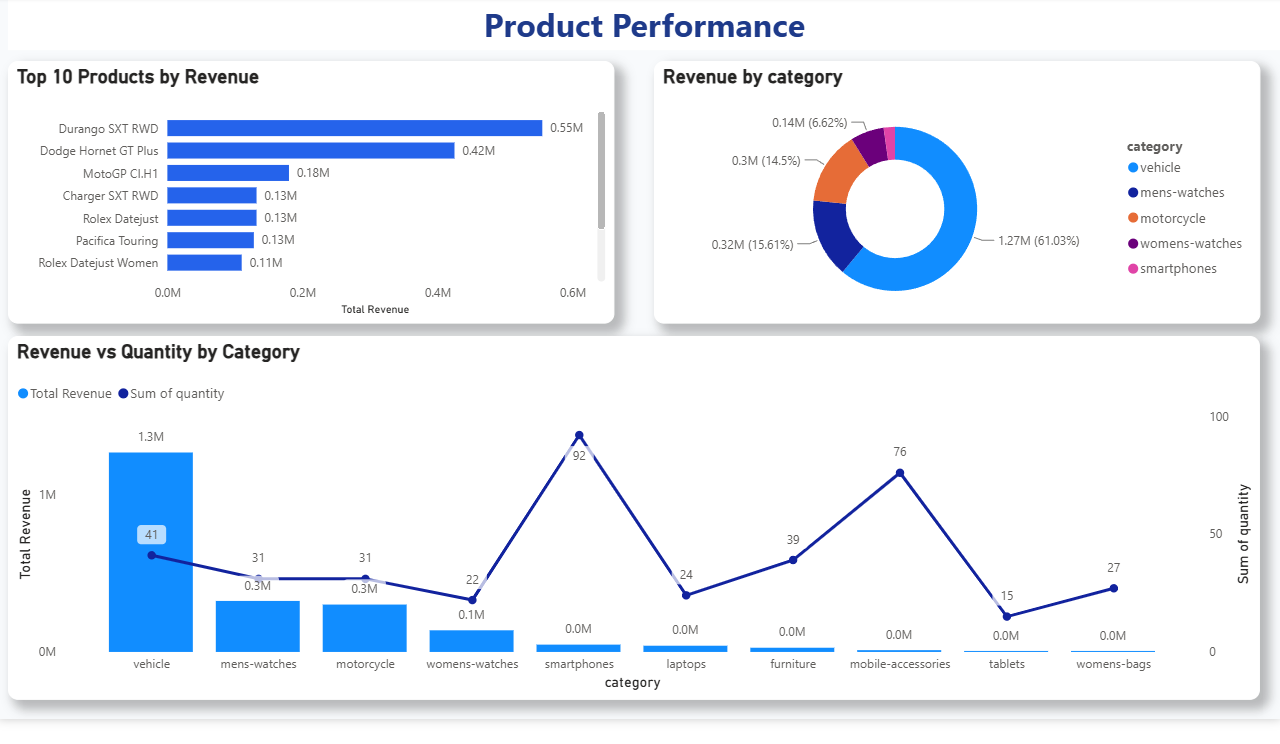

The page's visual inventory and layout, read from the dashboard file:
{"tool":"powerbi","page":{"name":"Product Performance","canvas":[1280,720],"ordinal":2},"visuals":[{"type":"textbox","box":[10.1,0,1269.9,53.4],"z":0},{"type":"clusteredBarChart","title":"Top 10 Products by Revenue","fields":{"Category":["analytics dim_products.product_name"],"Y":["analytics fact_orders.Total Revenue"]},"box":[10.1,63.5,605,262],"z":1000},{"type":"donutChart","title":"Revenue by category","fields":{"Category":["analytics dim_products.category"],"Y":["analytics fact_orders.Total Revenue"]},"box":[654.1,63.5,605,262],"z":2000},{"type":"lineClusteredColumnComboChart","title":"Revenue vs Quantity by Category","fields":{"Category":["analytics dim_products.category"],"Y":["analytics fact_orders.Total Revenue"],"Y2":["Sum(analytics fact_orders.quantity)"]},"box":[10.2,338,1248.6,362.5],"z":2001}]}

Visuals, with their boxes on the page's 1280x720 design canvas (x1, y1, x2, y2). These are canvas units, not pixel positions in the 1280x744 screenshot, which may show the page scaled, cropped or inside an application window:
textbox: Rect(10, 0, 1280, 53)
"Top 10 Products by Revenue" clusteredBarChart: Rect(10, 64, 615, 326)
"Revenue by category" donutChart: Rect(654, 64, 1259, 326)
"Revenue vs Quantity by Category" lineClusteredColumnComboChart: Rect(10, 338, 1259, 700)
